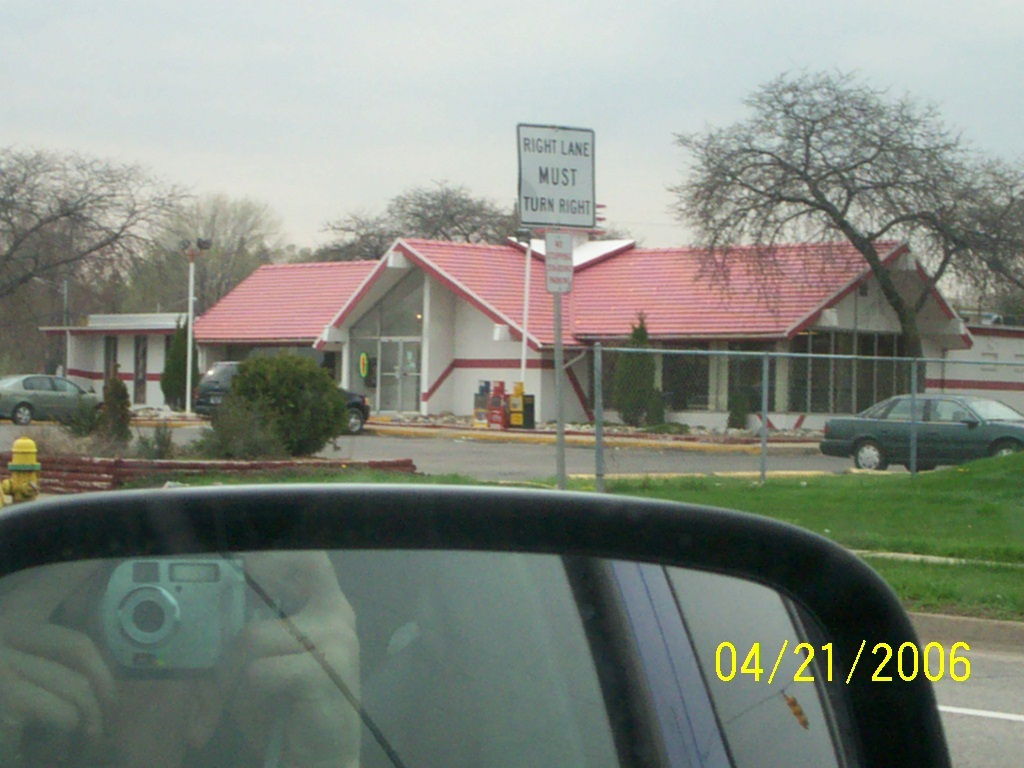Car: (0, 480, 952, 767), (819, 393, 1022, 472), (190, 361, 371, 436), (0, 374, 104, 430)
